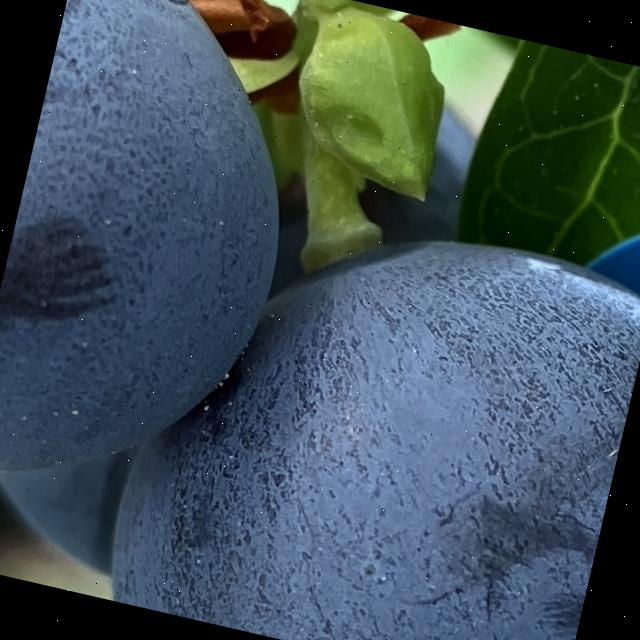Blueberries: (0, 0, 342, 564)
